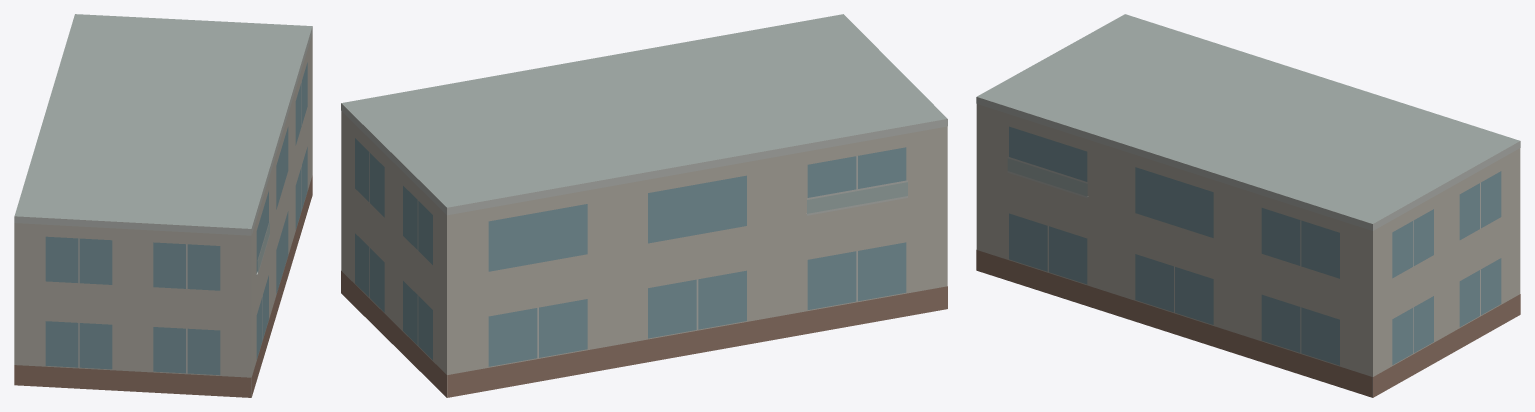
The model's file is survey-upis-32570080.glb.
3 views of the same model, side by side, from view 1: azimuth 30°, elevation 25°; view 2: azimuth 150°, elevation 25°; view 3: azimuth 270°, elevation 25° (orthographic). The views are drawn at different scales.
Parts seen in each view (by area): view 1: survey-upis-32570080.tmp; view 2: survey-upis-32570080.tmp; view 3: survey-upis-32570080.tmp.
Boxes of the visible parts, left/top/right/bottom form: survey-upis-32570080.tmp: left=14, top=14, right=312, bottom=397; survey-upis-32570080.tmp: left=341, top=14, right=947, bottom=397; survey-upis-32570080.tmp: left=976, top=14, right=1520, bottom=397.
Size of the model in its own units: 15.83 by 6.1 by 17.32.
